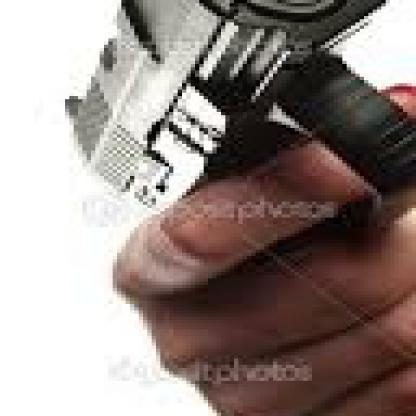gun: (65, 0, 412, 413)
